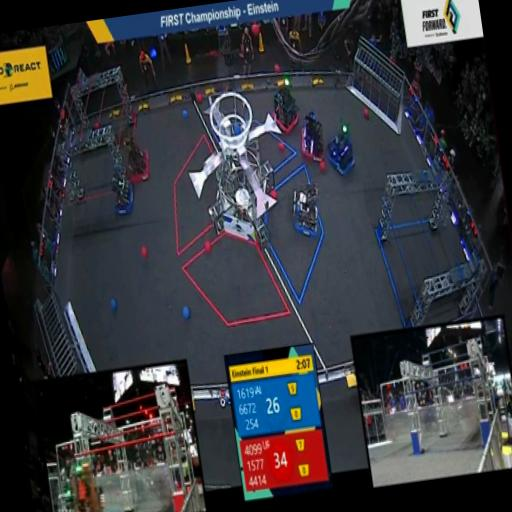robot: (280, 177, 328, 250), (320, 114, 366, 190), (260, 76, 304, 140), (102, 166, 143, 226), (295, 110, 329, 168), (120, 132, 156, 186)
